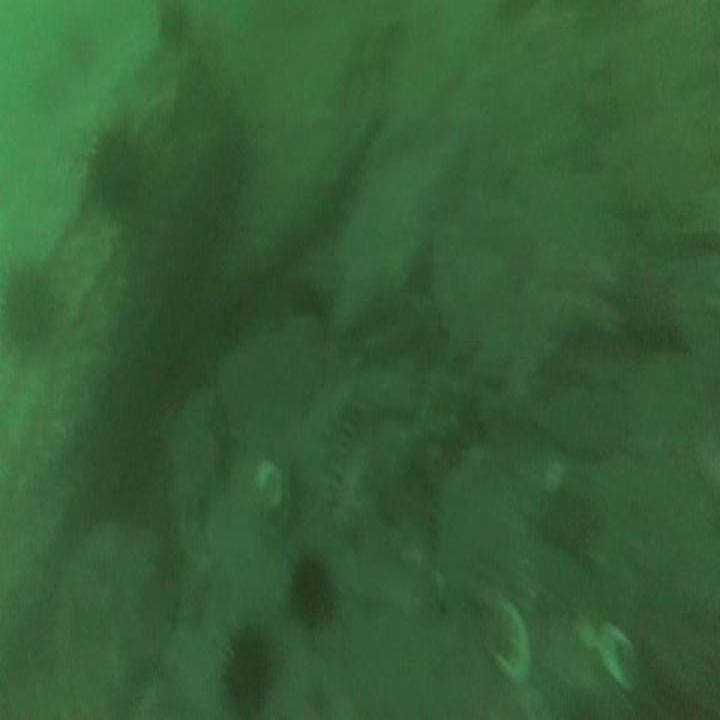echinus: (90, 130, 138, 213), (225, 631, 269, 715), (5, 268, 50, 346), (288, 554, 330, 626), (286, 279, 332, 325)
holothurian: (316, 404, 355, 503)
